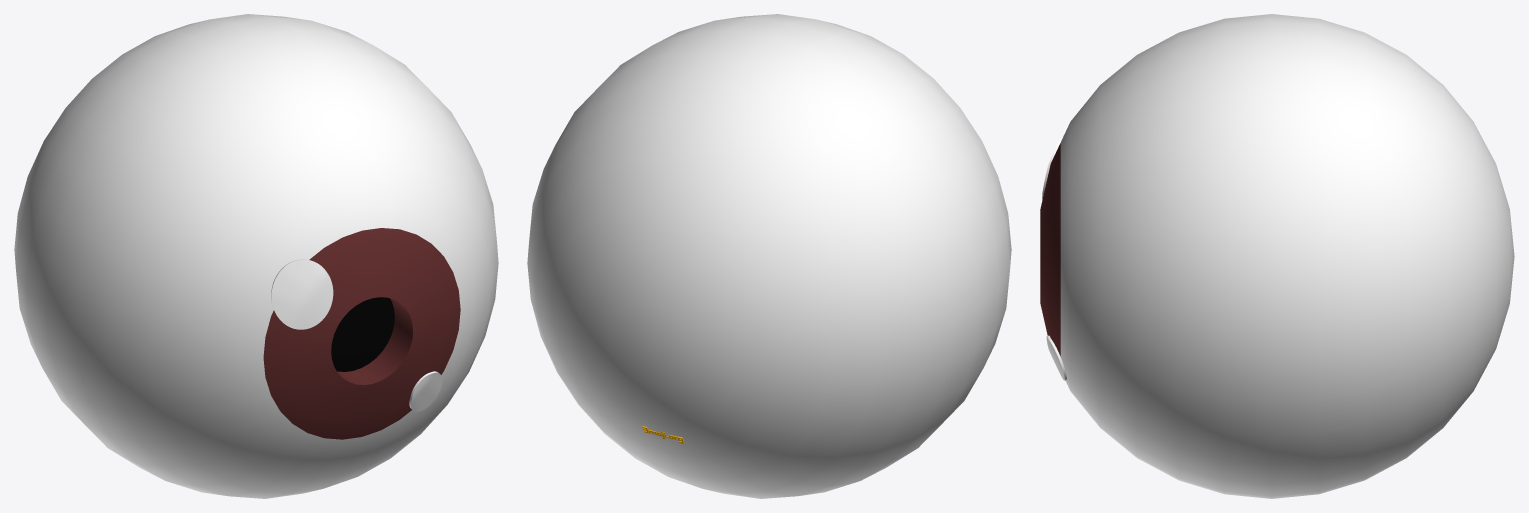
Rendered from eye.glb.
The picture shows the model from 3 angles, left to right: view 1: azimuth 30°, elevation 25°; view 2: azimuth 150°, elevation 25°; view 3: azimuth 270°, elevation 25°; orthographic projection.
Parts seen in each view (by area): view 1: Sphere.026, Circle.286; view 2: Sphere.026; view 3: Sphere.026, Circle.286.
Boxes of the visible parts, left/top/right/bottom form: Sphere.026: left=14, top=14, right=498, bottom=498; Circle.286: left=271, top=259, right=442, bottom=411; Sphere.026: left=527, top=14, right=1011, bottom=498; Sphere.026: left=1040, top=14, right=1514, bottom=498; Circle.286: left=1042, top=135, right=1066, bottom=380.
Size of the model in its own units: 2.25 by 2.25 by 2.19.
Materials: 1 (1 with a texture image).
